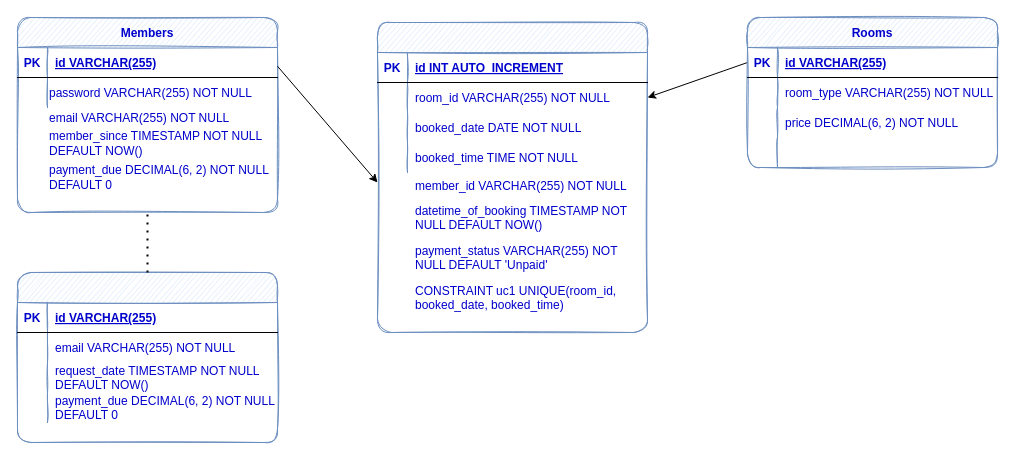
The diagram is 1015 pixels wide and 460 high, and some of its shapes have lost their labels. The box of each missing label's shape, as (x1, y1, x2, y2) in pixels:
Bookings: (376, 22, 648, 332)
Pending_terminations: (16, 272, 278, 442)
